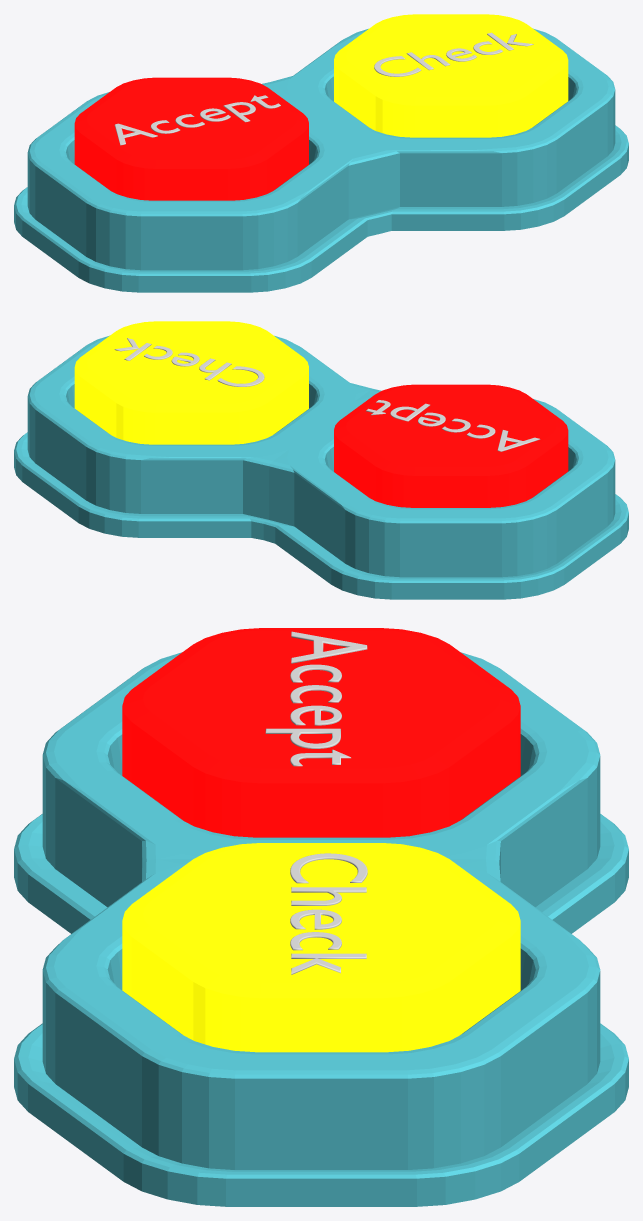
Rendered from buttons.fbx.
3 views of the same model, one above another, from view 1: azimuth 30°, elevation 25°; view 2: azimuth 150°, elevation 25°; view 3: azimuth 270°, elevation 25° (orthographic). The views are drawn at different scales.
Visible parts, largest first — view 1: Cylinder.001, Cylinder, Cylinder.002; view 2: Cylinder.001, Cylinder, Cylinder.002; view 3: Cylinder.001, Cylinder.002, Cylinder.
Boxes of the visible parts, box(x1,y1,x2,y2) form: Cylinder.001: box(14, 28, 628, 292); Cylinder: box(334, 14, 568, 137); Cylinder.002: box(74, 77, 308, 200); Cylinder.001: box(14, 335, 628, 599); Cylinder: box(74, 321, 308, 444); Cylinder.002: box(334, 384, 568, 507); Cylinder.001: box(14, 652, 628, 1206); Cylinder.002: box(122, 628, 520, 837); Cylinder: box(122, 843, 520, 1052).
Bounding box in the file's own units: 501 × 92.19 × 290.
